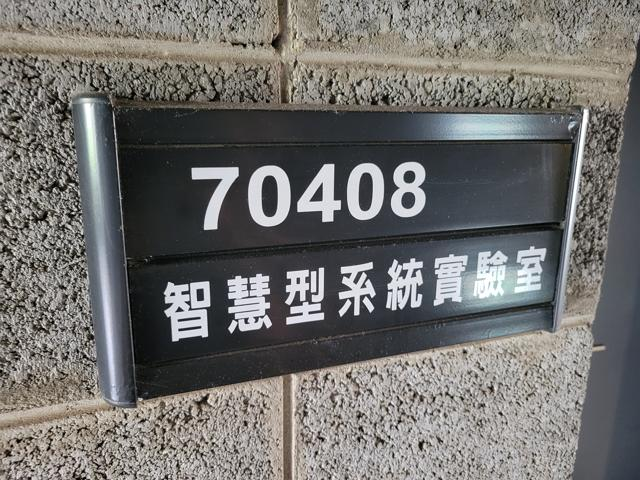doorplate: (62, 82, 598, 411)
